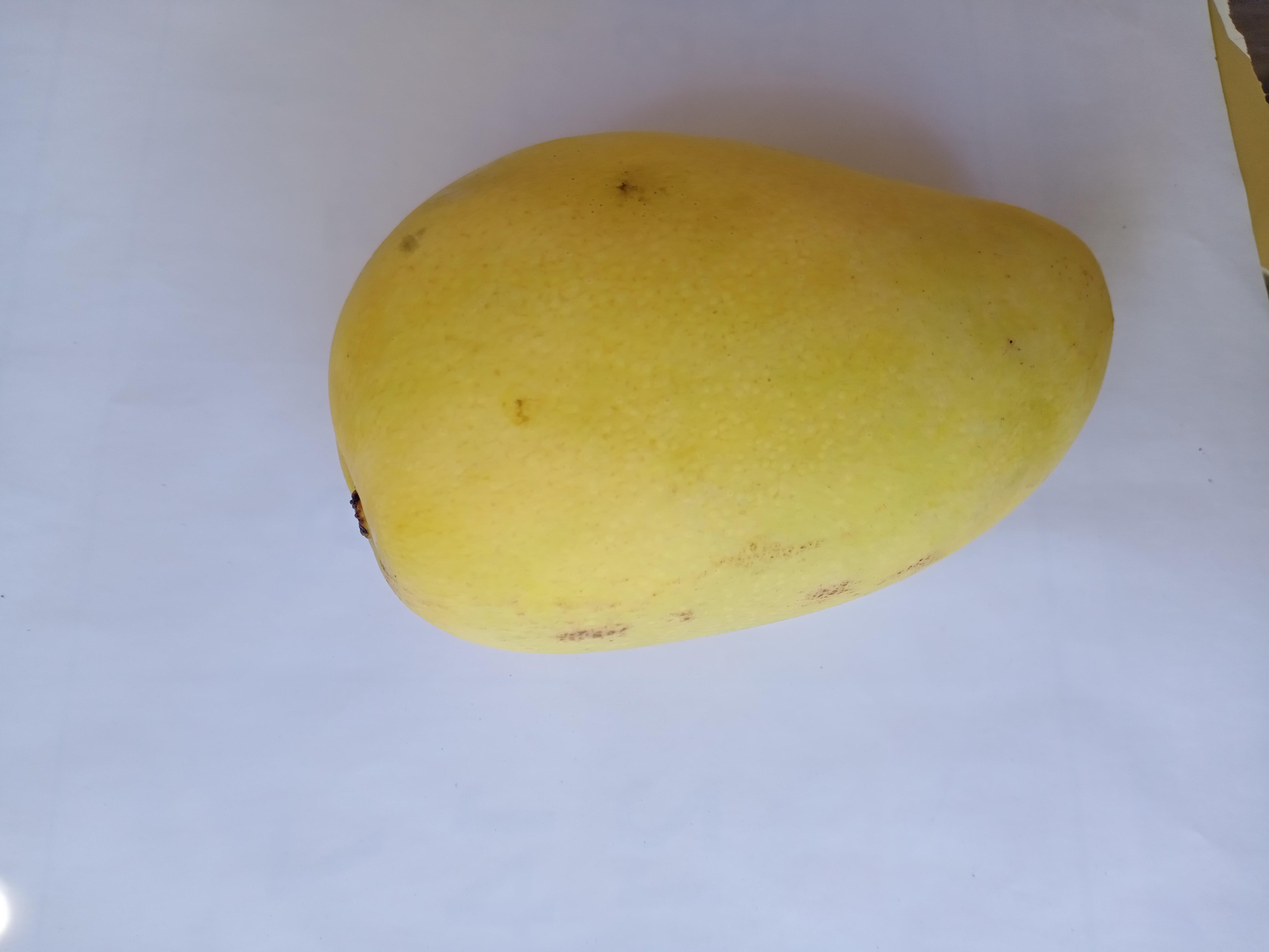Mango Ripe: (253, 91, 1140, 691)
